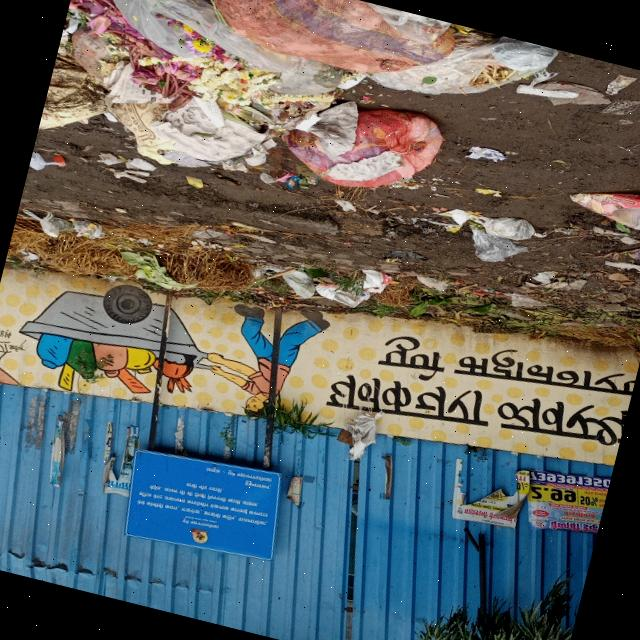garbage: (36, 0, 557, 250), (6, 178, 394, 347), (393, 271, 640, 355)
